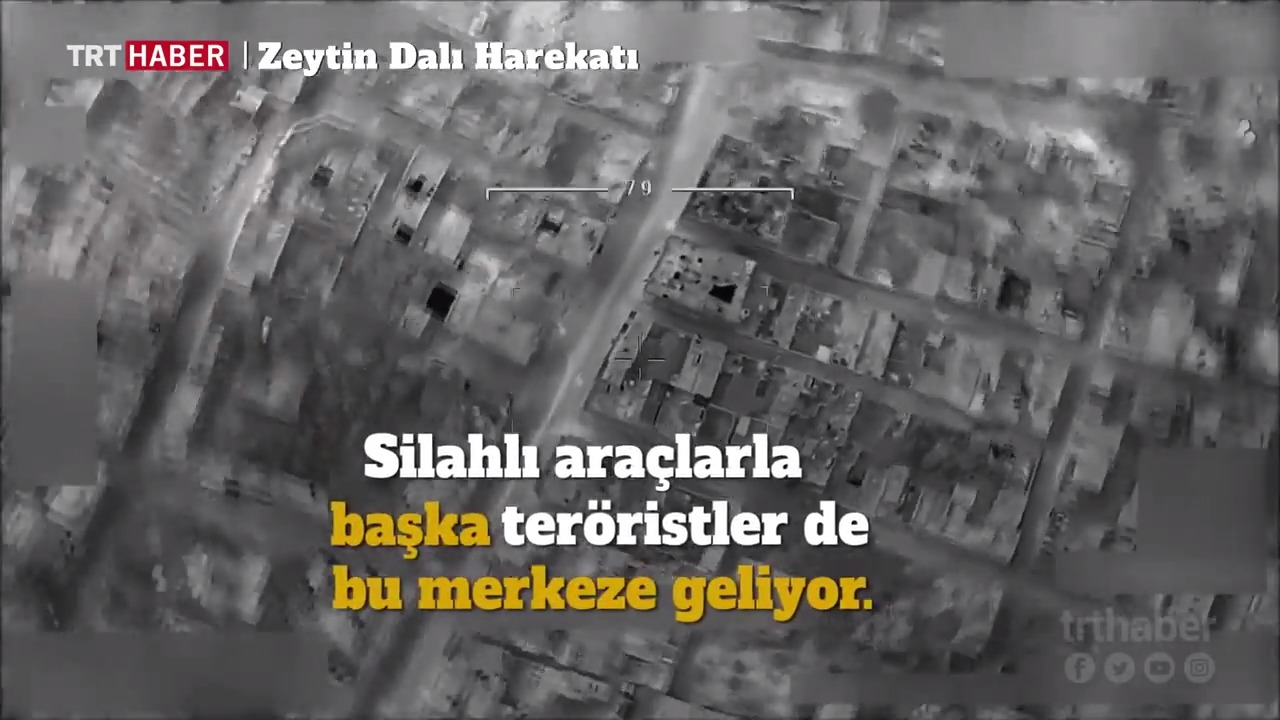bina: (642, 234, 768, 320)
